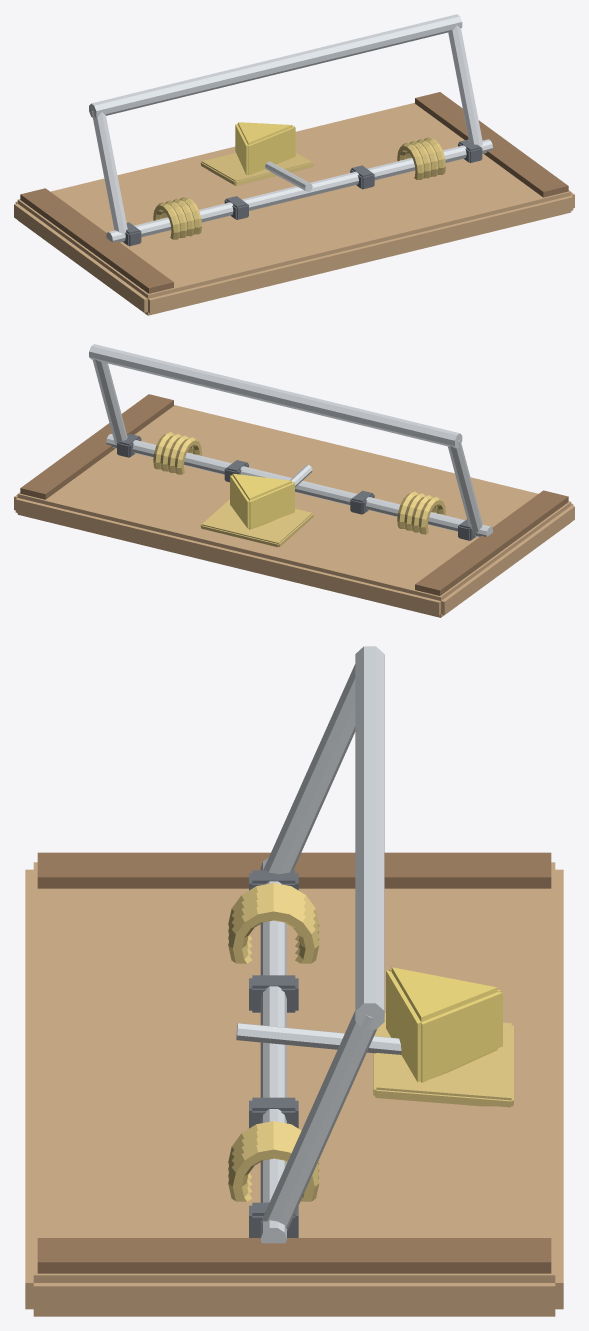
Rendered from SM_Trap_MouseTrap.fbx.
The picture shows the model from 3 angles, top to bottom: view 1: azimuth 30°, elevation 25°; view 2: azimuth 150°, elevation 25°; view 3: azimuth 270°, elevation 25°; orthographic projection. The views are drawn at different scales.
Visible parts, largest first — view 1: SM_Trap_MouseTrap; view 2: SM_Trap_MouseTrap; view 3: SM_Trap_MouseTrap.
Part boxes in pixels (bbox=[...]): SM_Trap_MouseTrap: bbox=[14, 14, 574, 315]; SM_Trap_MouseTrap: bbox=[14, 344, 574, 617]; SM_Trap_MouseTrap: bbox=[25, 646, 563, 1316].
Size of the model in its own units: 2.4 by 0.7606 by 1.3.
